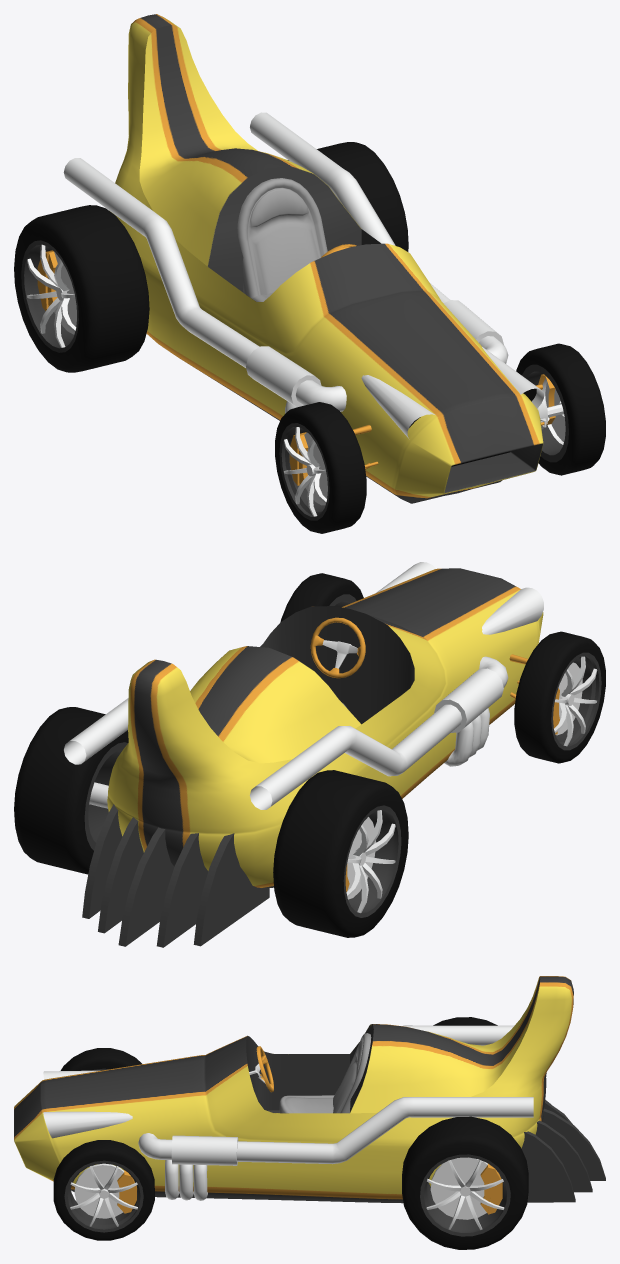
Rendered from Lutung1.fbx.
3 renders of one model, top to bottom at view 1: azimuth 30°, elevation 25°; view 2: azimuth 150°, elevation 25°; view 3: azimuth 270°, elevation 25°, orthographic. The views are drawn at different scales.
Visible parts, largest first — view 1: Cube.073, Circle.059, Circle.084, Circle.083; view 2: Cube.073, Circle.059, Circle.084, Circle.083, Wheel_Steer.004; view 3: Cube.073, Circle.059, Circle.083, Circle.084, Suspensi_FL.007, Wheel_Steer.004.
Part boxes in pixels (<box>): Cube.073: <box>37,14,546,503</box>; Circle.059: <box>14,142,408,372</box>; Circle.084: <box>275,402,366,533</box>; Circle.083: <box>516,343,605,475</box>; Cube.073: <box>64,562,543,947</box>; Circle.059: <box>14,707,408,937</box>; Circle.084: <box>514,631,605,763</box>; Circle.083: <box>280,573,363,622</box>; Wheel_Steer.004: <box>310,617,365,678</box>; Cube.073: <box>14,976,605,1214</box>; Circle.059: <box>402,1017,528,1249</box>; Circle.083: <box>53,1140,154,1240</box>; Circle.084: <box>60,1048,142,1070</box>; Suspensi_FL.007: <box>105,1163,136,1213</box>; Wheel_Steer.004: <box>255,1046,273,1092</box>.
Bounding box in the file's own units: 128 × 101 × 255.
